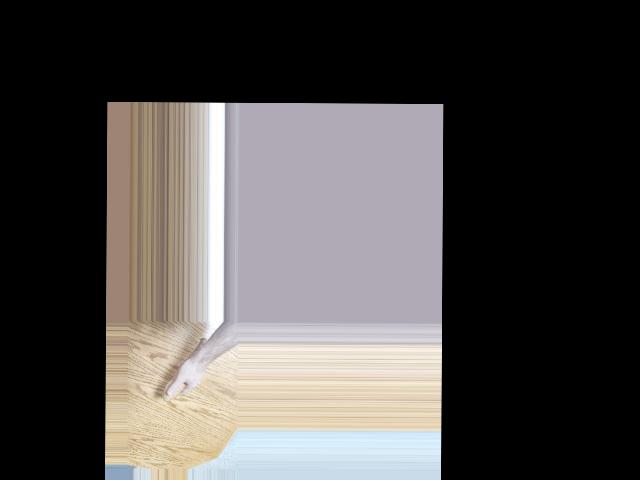sweet_potato: (161, 336, 206, 403)
